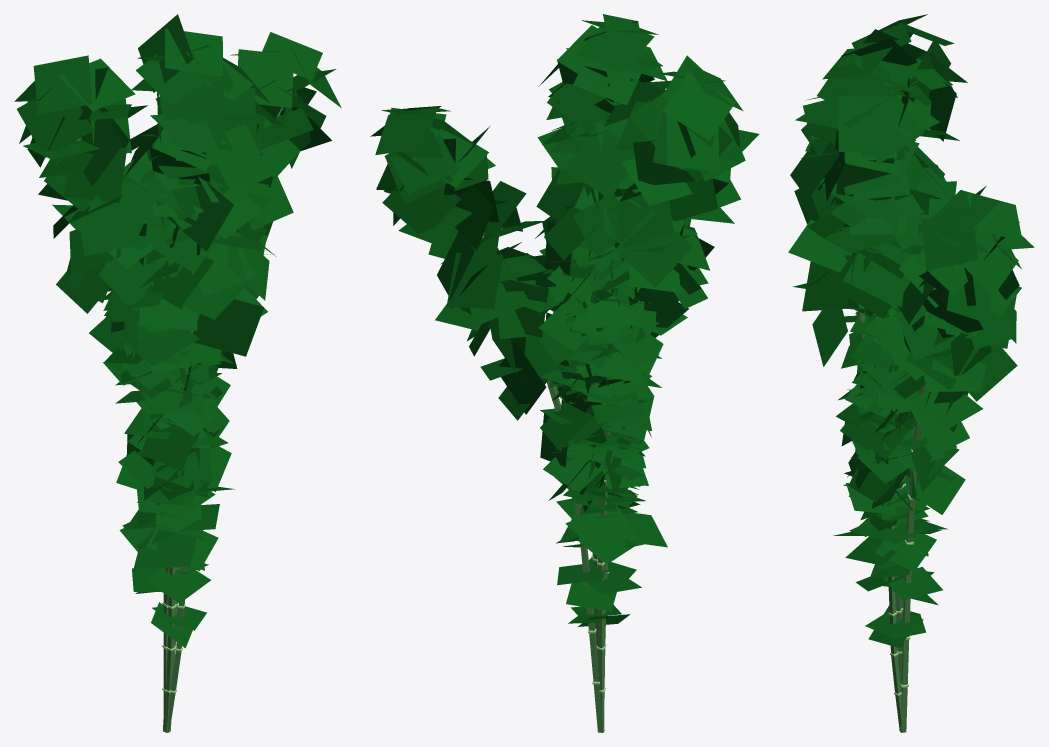
File: Bamboo.fbx
The picture shows the model from 3 angles, left to right: view 1: azimuth 30°, elevation 25°; view 2: azimuth 150°, elevation 25°; view 3: azimuth 270°, elevation 25°; orthographic projection. The views are drawn at different scales.
Parts seen in each view (by area): view 1: Bamboo 11, Bamboo 13, Bamboo 6, Bamboo 9, Bamboo 12, Bamboo 4, Bamboo 5, Bamboo 8, Bamboo 7, Bamboo 10, Bamboo 1, Bamboo 2 (+1 smaller); view 2: Bamboo 6, Bamboo 13, Bamboo 11, Bamboo 12, Bamboo 8, Bamboo 5, Bamboo 4, Bamboo 3, Bamboo 2, Bamboo 9, Bamboo 7, Bamboo 1 (+1 smaller); view 3: Bamboo 6, Bamboo 11, Bamboo 12, Bamboo 4, Bamboo 13, Bamboo 9, Bamboo 5, Bamboo 1, Bamboo 10, Bamboo 2, Bamboo 3, Bamboo 7.
Boxes of the visible parts, x1,y1,x2,y2 form: Bamboo 11: [122, 14, 271, 727]; Bamboo 13: [14, 55, 199, 641]; Bamboo 6: [163, 32, 341, 732]; Bamboo 9: [135, 387, 229, 648]; Bamboo 12: [123, 45, 249, 689]; Bamboo 4: [116, 423, 235, 732]; Bamboo 5: [104, 251, 211, 691]; Bamboo 8: [89, 210, 192, 690]; Bamboo 7: [109, 257, 215, 519]; Bamboo 10: [109, 260, 223, 570]; Bamboo 1: [120, 349, 230, 732]; Bamboo 2: [103, 361, 222, 732]; Bamboo 6: [370, 106, 603, 732]; Bamboo 13: [600, 55, 759, 669]; Bamboo 11: [536, 14, 671, 726]; Bamboo 12: [535, 21, 665, 692]; Bamboo 8: [562, 188, 661, 690]; Bamboo 5: [537, 229, 650, 690]; Bamboo 4: [540, 397, 643, 732]; Bamboo 3: [544, 205, 662, 690]; Bamboo 2: [538, 295, 640, 732]; Bamboo 9: [568, 386, 654, 648]; Bamboo 7: [565, 327, 663, 512]; Bamboo 1: [540, 312, 645, 732]; Bamboo 6: [877, 185, 1034, 732]; Bamboo 11: [788, 38, 941, 657]; Bamboo 12: [805, 46, 944, 419]; Bamboo 4: [846, 413, 965, 732]; Bamboo 13: [844, 14, 967, 322]; Bamboo 9: [836, 389, 926, 647]; Bamboo 5: [850, 215, 942, 617]; Bamboo 1: [845, 338, 932, 732]; Bamboo 10: [841, 252, 936, 578]; Bamboo 2: [854, 306, 947, 731]; Bamboo 3: [849, 218, 944, 486]; Bamboo 7: [851, 307, 929, 522].
Size of the model in its own units: 1658 by 3366 by 1081.
